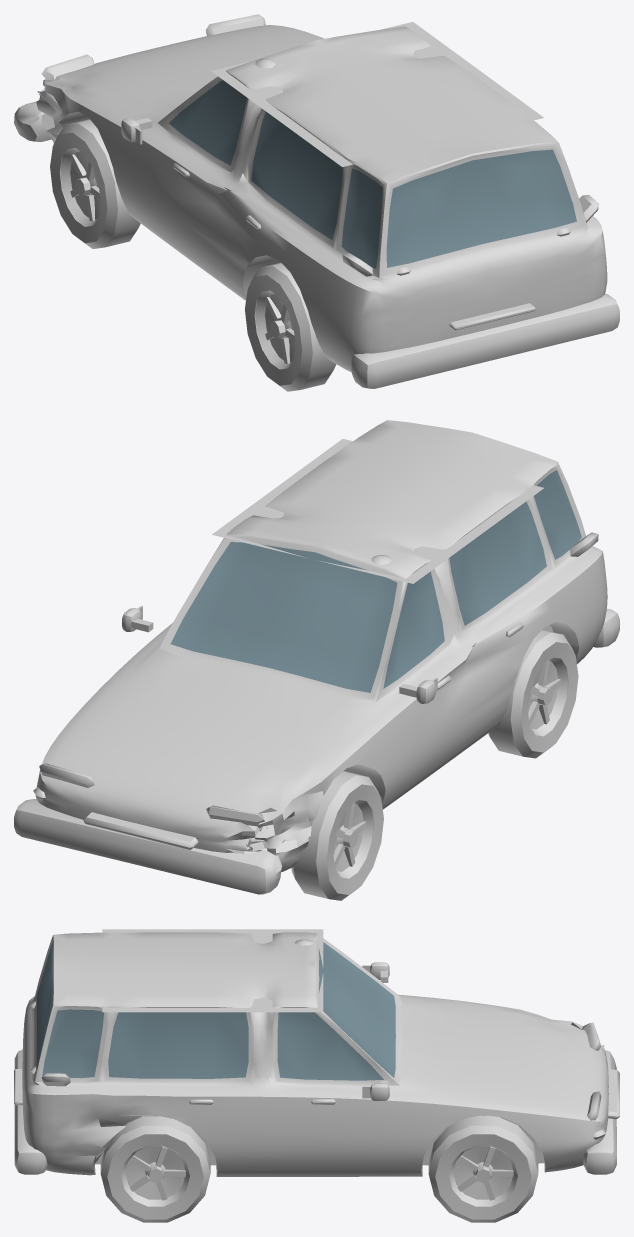
The model's file is car_hatch_dmg1.glb.
3 views of the same model, one above another, from view 1: azimuth 30°, elevation 25°; view 2: azimuth 150°, elevation 25°; view 3: azimuth 270°, elevation 25° (orthographic). The views are drawn at different scales.
Parts seen in each view (by area): view 1: car_hatch_dmg1; view 2: car_hatch_dmg1; view 3: car_hatch_dmg1.
Boxes of the visible parts, x1=… form: car_hatch_dmg1: x1=14, y1=14, x2=619, y2=391; car_hatch_dmg1: x1=14, y1=420, x2=619, y2=900; car_hatch_dmg1: x1=14, y1=929, x2=619, y2=1222.
Bounding box in the file's own units: 1.96 × 1.49 × 3.97.
